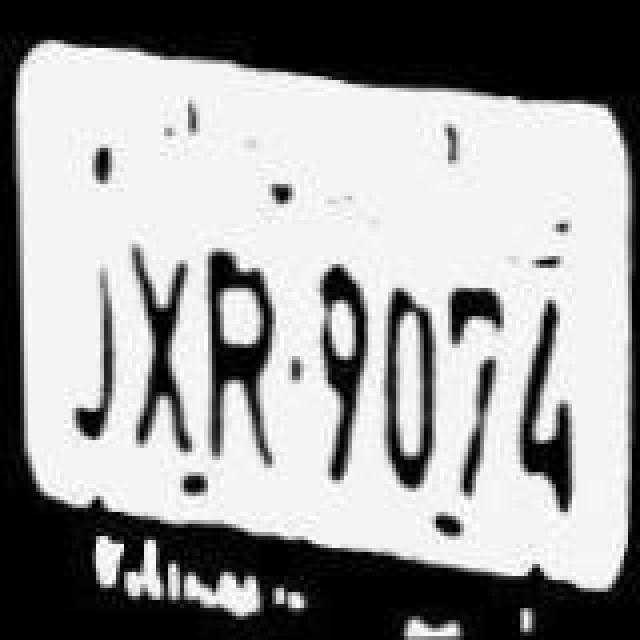4: (512, 284, 584, 532)
7: (442, 262, 510, 502)
9: (302, 246, 374, 498)
J: (54, 248, 126, 456)
O: (378, 262, 446, 494)
R: (198, 246, 286, 478)
X: (122, 238, 202, 462)
